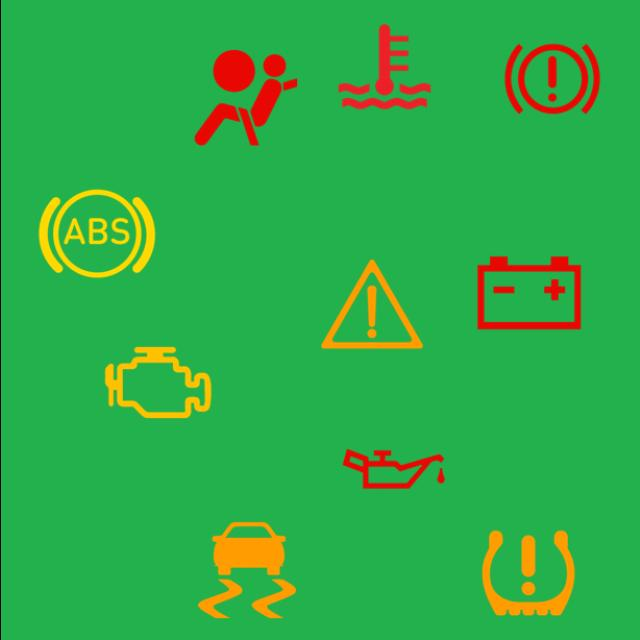Anti Lock Braking System: (32, 170, 160, 297)
Braking System Issue: (488, 16, 615, 142)
Charging System Issue: (465, 230, 592, 356)
Check Engine: (94, 319, 221, 446)
Electronic Stability Problem -ESP-: (182, 506, 310, 634)
Engine Overheating Warning Light: (320, 3, 447, 130)
Low Engine Oil Warning Light: (329, 406, 456, 532)
Low Tire Pressure Warning Light: (464, 510, 591, 637)
Master warning light: (308, 241, 434, 368)
SRS-Airbag: (182, 35, 308, 162)
